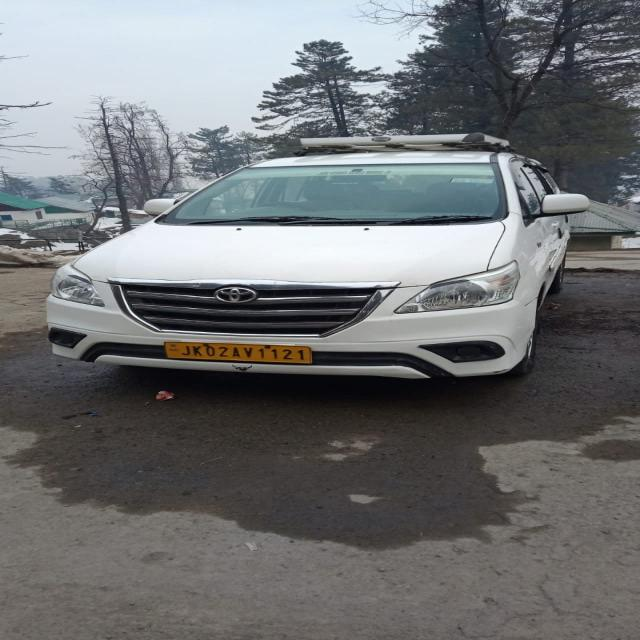plate: (156, 336, 316, 367)
